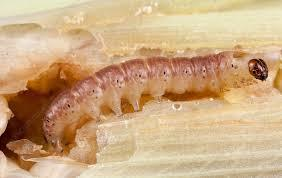insect: (39, 51, 271, 156)
